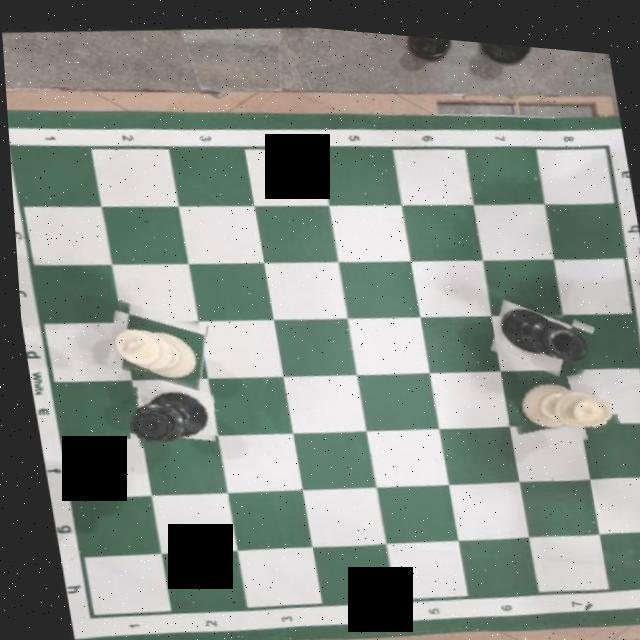chess-table-corners: (68, 589, 104, 634), (7, 125, 30, 171), (589, 117, 618, 151)
